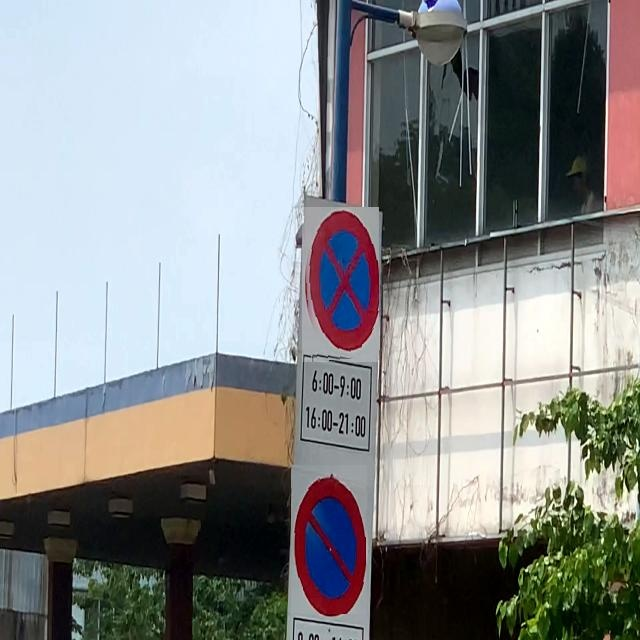bien_cam: (302, 207, 379, 362), (292, 465, 368, 614)
